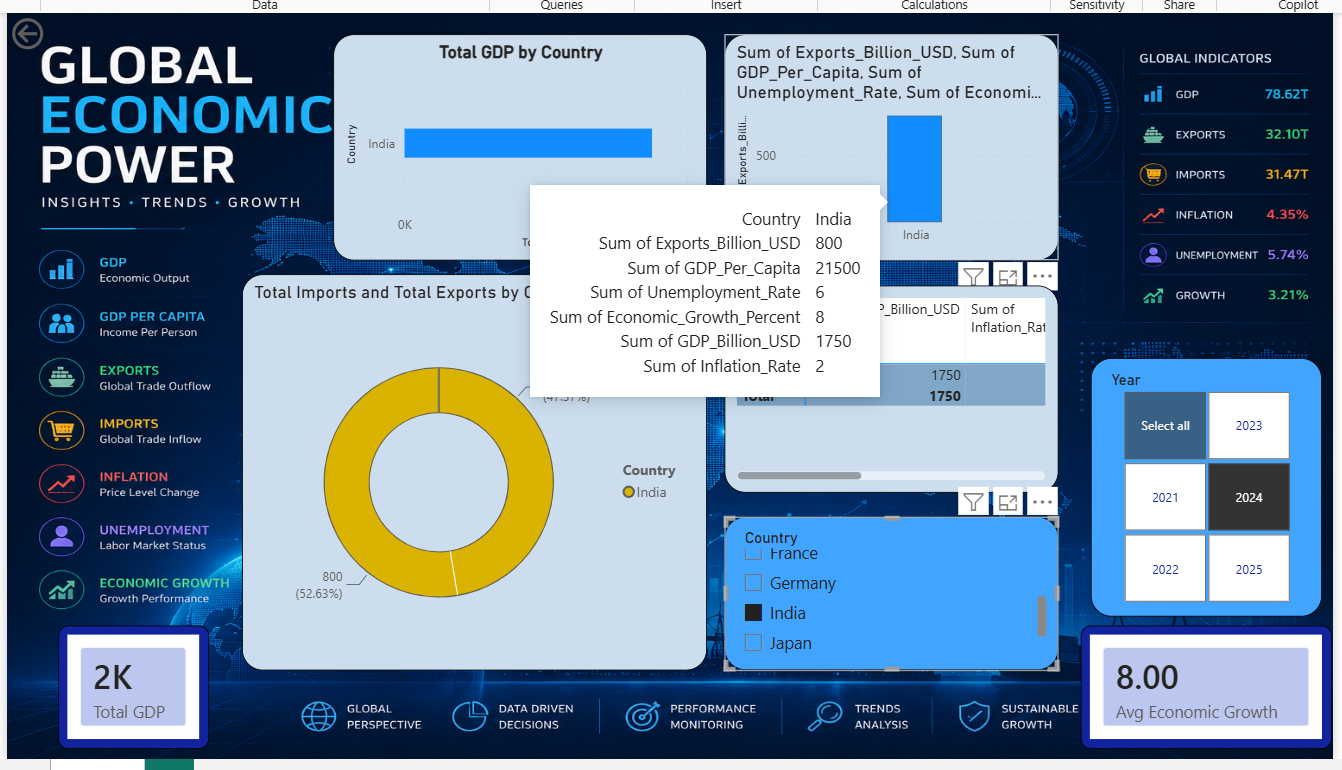

This screenshot's page, from the dashboard's own definition file:
{"tool":"powerbi","page":{"name":"Page 1","canvas":[1280,720],"ordinal":0},"visuals":[{"type":"cardVisual","fields":{"Data":["Economic_Power.Total GDP"]},"box":[49.5,591.2,146,119.4],"z":0},{"type":"cardVisual","fields":{"Data":["Economic_Power.Avg Economic Growth"]},"box":[1036.3,591.2,242.5,119.4],"z":1000},{"type":"clusteredBarChart","fields":{"Category":["Economic_Power.Country"],"Y":["Economic_Power.Total GDP"]},"box":[314.9,20.5,360.7,218.4],"z":2000},{"type":"clusteredColumnChart","fields":{"Category":["Economic_Power.Country"],"Y":["Sum(Economic_Power.Exports_Billion_USD)"]},"box":[692.5,20.5,322.1,218.4],"z":3000},{"type":"donutChart","fields":{"Category":["Economic_Power.Country"],"Y":["Economic_Power.Total Imports","Economic_Power.Total Exports"]},"box":[226.8,252.1,448.8,382.4],"z":4000},{"type":"pivotTable","fields":{"Rows":["Economic_Power.Country"],"Values":["Sum(Economic_Power.GDP_Billion_USD)","Sum(Economic_Power.Inflation_Rate)","Sum(Economic_Power.Unemployment_Rate)","Sum(Economic_Power.Economic_Growth_Percent)"]},"box":[692.5,262.4,322.1,200.3],"z":5000},{"type":"actionButton","box":[0,0,100,40],"z":6000},{"type":"slicer","fields":{"Values":["Economic_Power.Country"]},"box":[692.5,486.2,322.1,148.4],"z":7000},{"type":"slicer","fields":{"Values":["Economic_Power.Year"]},"box":[1046,333,223.2,249.7],"z":8000}]}

Visuals, with their boxes in screenshot pixels (x1, y1, x2, y2):
cardVisual - Economic_Power.Total GDP: (58, 622, 209, 745)
cardVisual - Economic_Power.Avg Economic Growth: (1078, 622, 1329, 745)
clusteredBarChart - Economic_Power.Country x Economic_Power.Total GDP: (333, 32, 706, 257)
clusteredColumnChart - Economic_Power.Country x Sum(Economic_Power.Exports_Billion_USD): (723, 32, 1056, 257)
donutChart - Economic_Power.Country x Economic_Power.Total Imports: (241, 271, 706, 667)
pivotTable - Economic_Power.Country x Sum(Economic_Power.GDP_Billion_USD): (723, 282, 1056, 489)
actionButton: (7, 10, 110, 52)
slicer - Economic_Power.Country: (723, 513, 1056, 667)
slicer - Economic_Power.Year: (1088, 355, 1319, 613)
